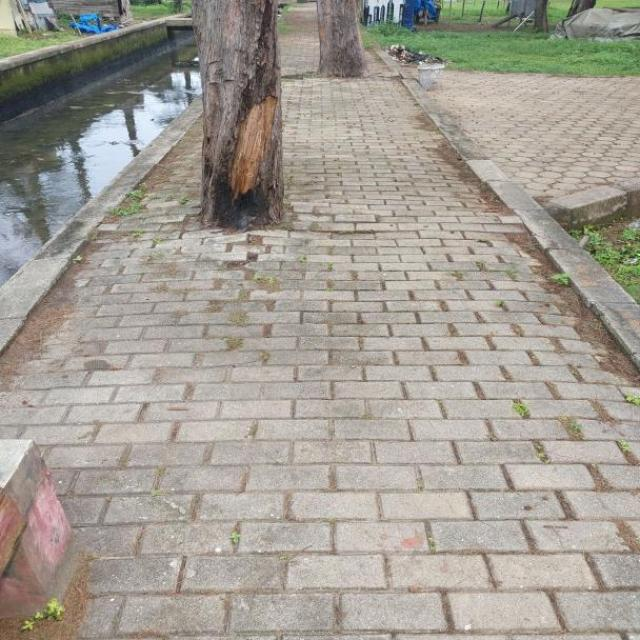tree ahead at: (188, 0, 300, 229)
